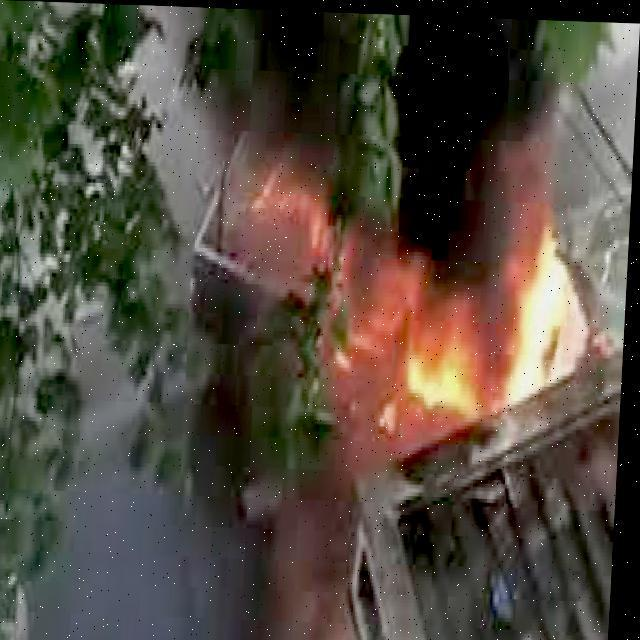Fire: (203, 132, 611, 486)
